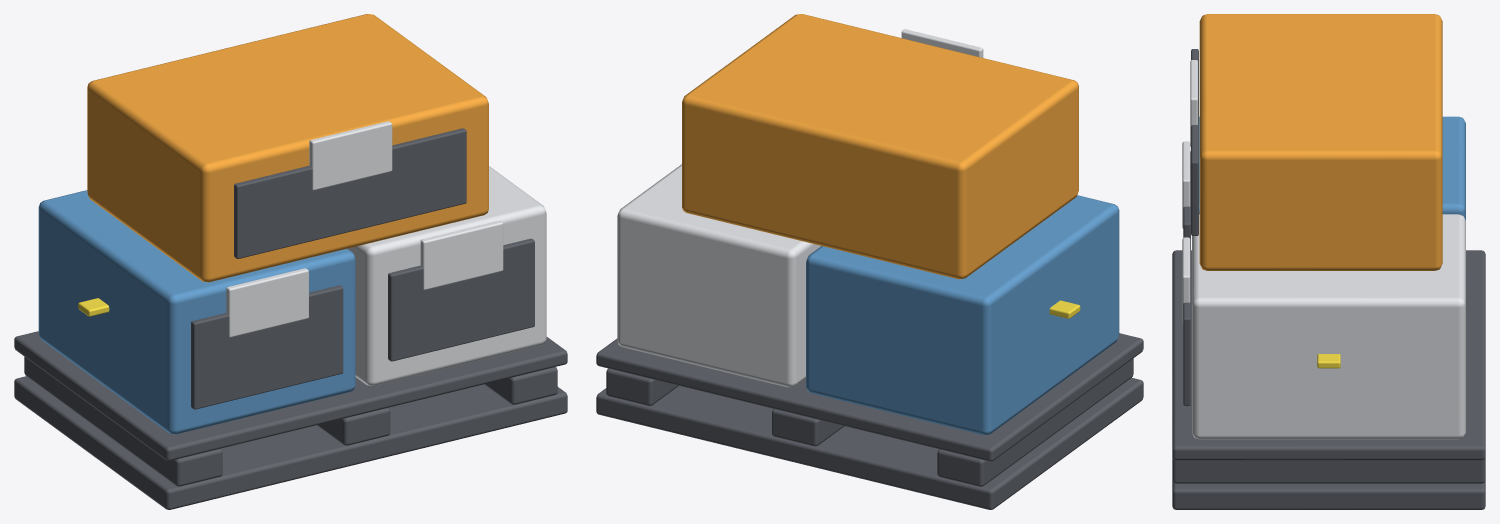
The model's file is pallet-with-parts-crates.glb.
3 renders of one model, left to right at view 1: azimuth 30°, elevation 25°; view 2: azimuth 150°, elevation 25°; view 3: azimuth 270°, elevation 25°, orthographic. The views are drawn at different scales.
Parts seen in each view (by area): view 1: pallet-with-parts-crates; view 2: pallet-with-parts-crates; view 3: pallet-with-parts-crates.
Part boxes in pixels (x1=…): pallet-with-parts-crates: x1=14, y1=14, x2=567, y2=509; pallet-with-parts-crates: x1=596, y1=14, x2=1143, y2=509; pallet-with-parts-crates: x1=1172, y1=14, x2=1485, y2=509.
Bounding box in the file's own units: 1.24 × 0.9288 × 0.8.
